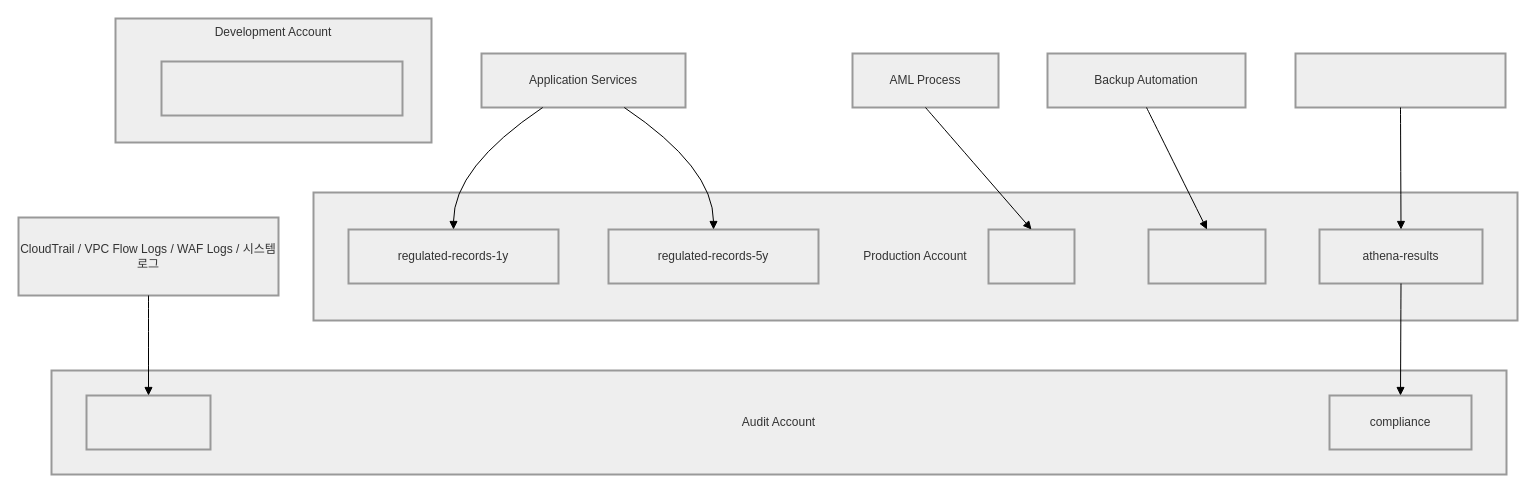
The diagram is 1535 pixels wide and 492 high, and some of its shapes have lost their labels. The centre of each missing label's shape, as x and y in pixels:
aml: (x=1031, y=256)
Athena Query Engine: (x=1400, y=80)
audit-log: (x=148, y=422)
backups: (x=1206, y=256)
비운영 테스트 데이터만 사용: (x=281, y=88)
